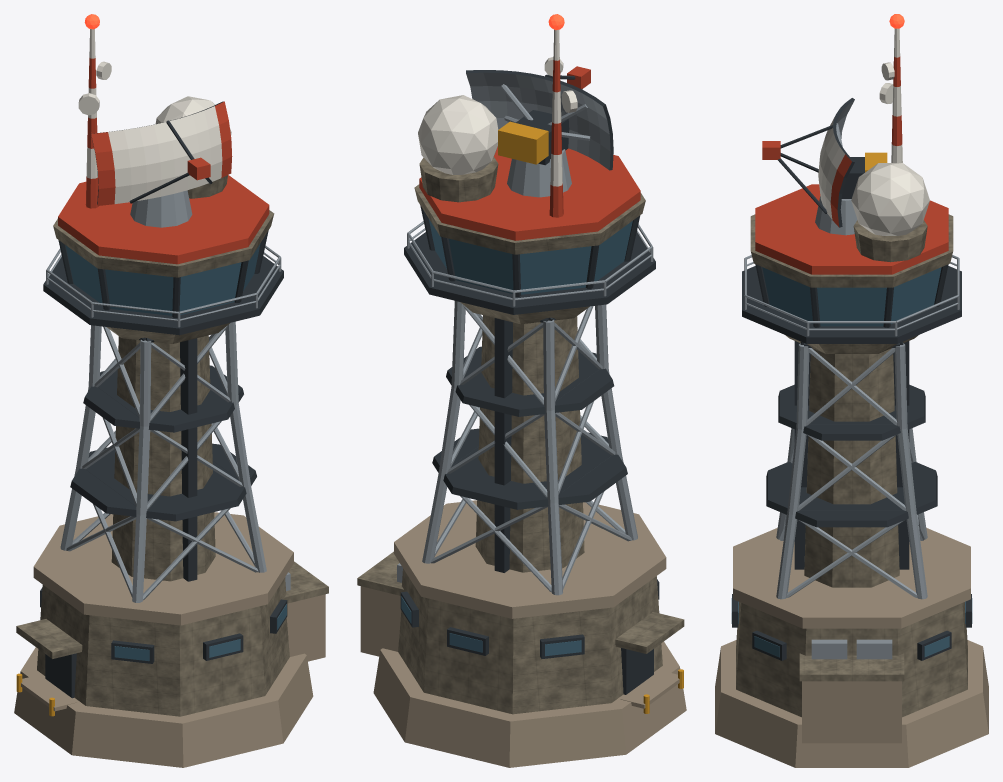
Rendered from SM_RadarTower.glb.
The picture shows the model from 3 angles, left to right: view 1: azimuth 30°, elevation 25°; view 2: azimuth 150°, elevation 25°; view 3: azimuth 270°, elevation 25°; orthographic projection. The views are drawn at different scales.
Parts seen in each view (by area): view 1: SM_RadarTower; view 2: SM_RadarTower; view 3: SM_RadarTower.
Boxes of the visible parts, left/top/right/bottom form: SM_RadarTower: left=14, top=14, right=328, bottom=767; SM_RadarTower: left=357, top=14, right=686, bottom=767; SM_RadarTower: left=715, top=14, right=988, bottom=767.
Bounding box in the file's own units: 18.93 × 46.08 × 17.
Materials: 9 (1 with a texture image).
